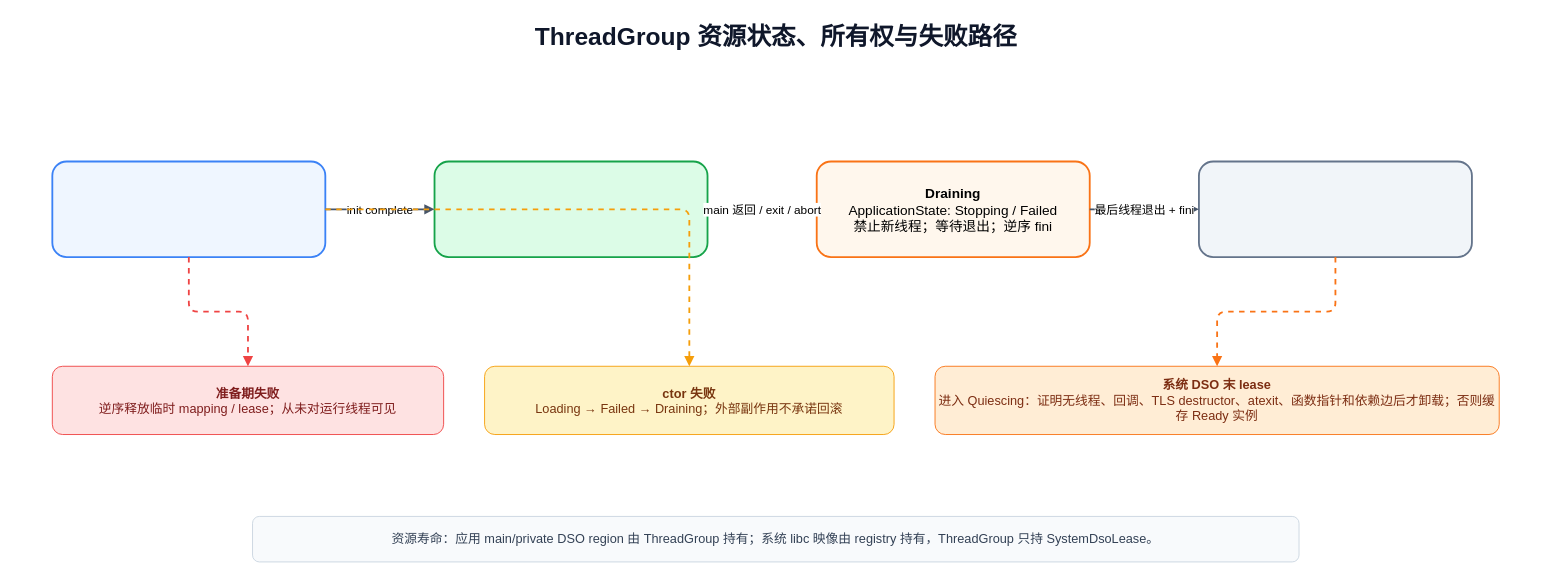
The diagram is 1551 pixels wide and 578 high, and some of its shapes have lost their labels. Here are the shapes that lost their labels. From the top down, the centre of each, then its label:
At (188,209): "Loading ApplicationState: Loading link / seal / init；业务入口未开放".
At (570,209): "Active ApplicationState: Running 主线程 + 子线程；成员引用保活".
At (1335,209): "Reaped ApplicationState: Terminated / Failed unpublish / free / release lease".
